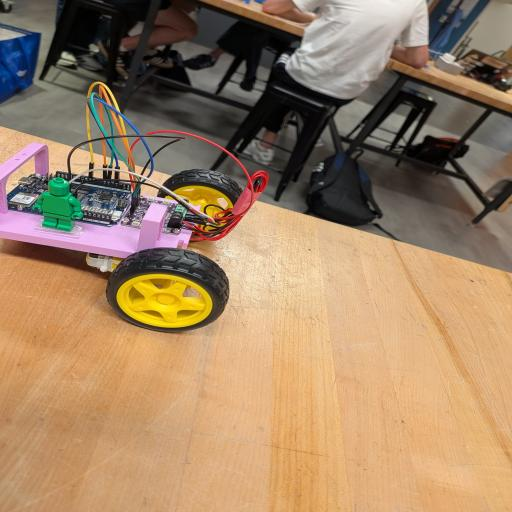Minifig: (33, 178, 83, 232)
